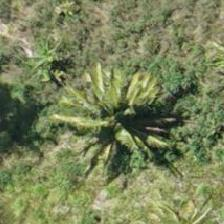coconut_tree: (67, 79, 157, 169)
